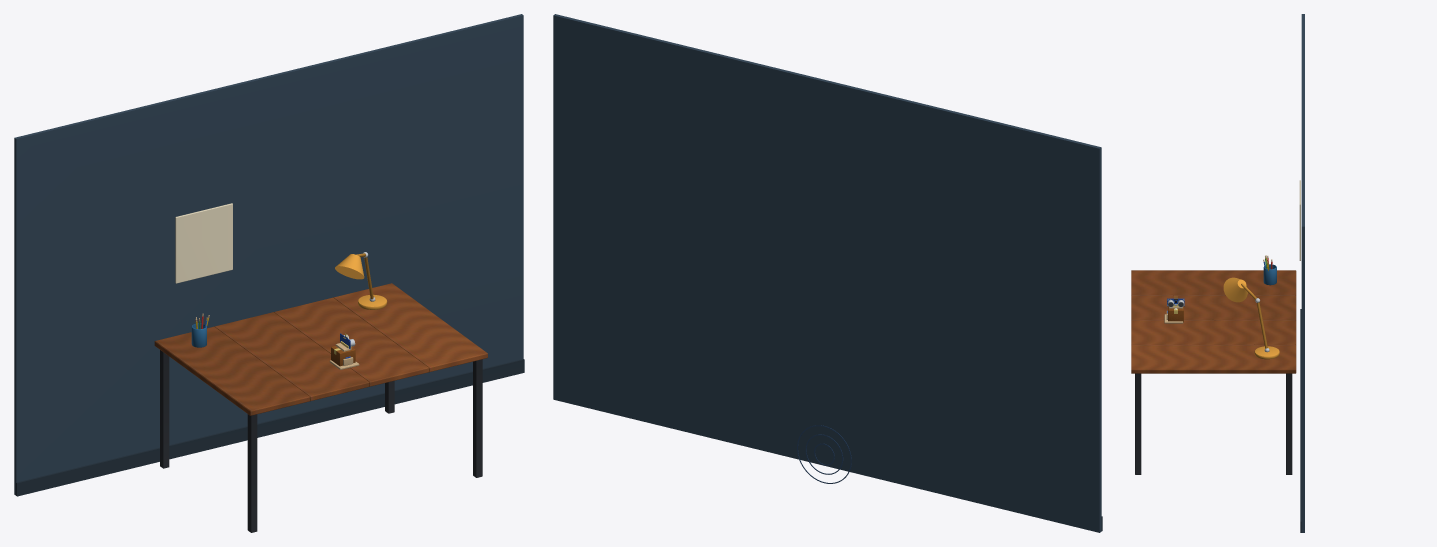
File: radar-room.glb
3 views of the same model, side by side, from view 1: azimuth 30°, elevation 25°; view 2: azimuth 150°, elevation 25°; view 3: azimuth 270°, elevation 25° (orthographic). The views are drawn at different scales.
Visible parts, largest first — view 1: Room; view 2: Room; view 3: Room.
Boxes of the visible parts, x1,y1,x2,y2 form: Room: (14,14,524,532); Room: (553,14,1102,532); Room: (1131,14,1304,532).
Bounding box in the file's own units: 3.2 × 2.15 × 1.85.
37 materials, 2 textured.
